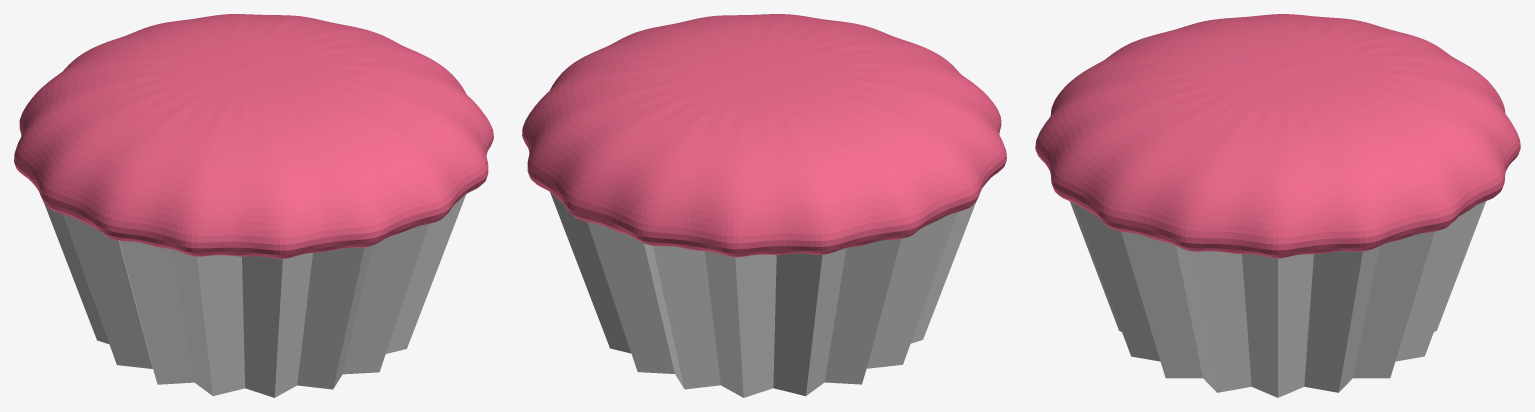
Rendered from cake2.fbx.
The picture shows the model from 3 angles, left to right: view 1: azimuth 30°, elevation 25°; view 2: azimuth 150°, elevation 25°; view 3: azimuth 270°, elevation 25°; orthographic projection.
Parts seen in each view (by area): view 1: Окружность.001, Окружность; view 2: Окружность.001, Окружность; view 3: Окружность.001, Окружность.
Boxes of the visible parts, left/top/right/bottom form: Окружность.001: left=14, top=14, right=493, bottom=258; Окружность: left=44, top=194, right=465, bottom=397; Окружность.001: left=522, top=14, right=1006, bottom=257; Окружность: left=550, top=192, right=975, bottom=397; Окружность.001: left=1035, top=14, right=1520, bottom=258; Окружность: left=1069, top=201, right=1485, bottom=397.
Size of the model in its own units: 83.29 by 49.75 by 83.29.
1 material, 1 textured.
